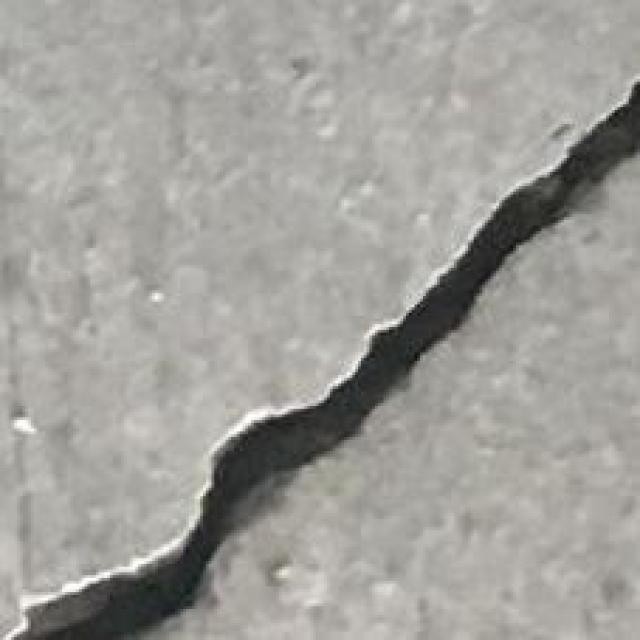Crack: (11, 85, 640, 620)
